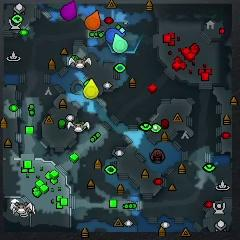p1: (106, 28, 126, 42)
p2: (112, 34, 128, 53)
p3: (60, 1, 77, 21)
p4: (83, 78, 99, 99)
p5: (86, 11, 101, 30)
